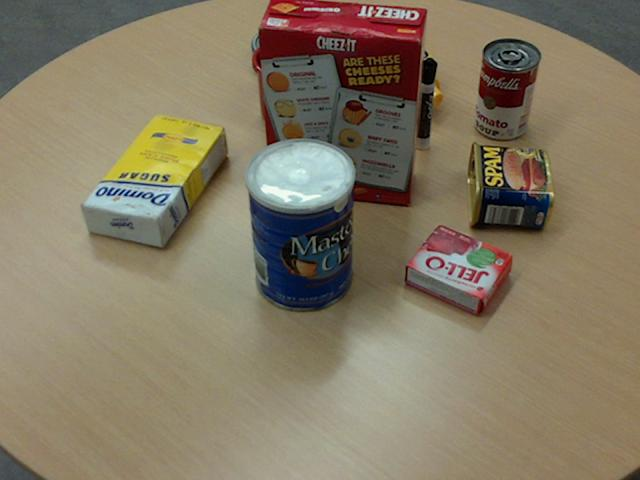cracker_box: (256, 0, 426, 203)
gelatin_box: (404, 223, 514, 314)
large_marker: (414, 58, 437, 149)
master_chef_can: (244, 137, 354, 311)
mug: (251, 36, 328, 128)
mustard_bottle: (323, 10, 442, 105)
potted_meat_can: (466, 140, 552, 226)
sugar_box: (79, 113, 226, 246)
tomato_soup_can: (474, 38, 540, 139)
tuna_fish_can: (250, 24, 314, 79)
